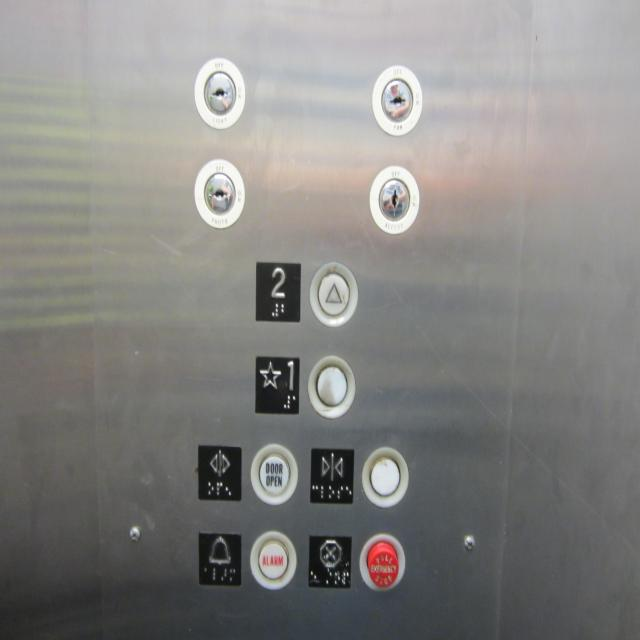2: (255, 260, 302, 323)
alarm: (196, 528, 243, 590)
close: (306, 442, 358, 508)
empty: (306, 353, 358, 420), (362, 442, 410, 510)
keyhole: (369, 58, 425, 140), (190, 54, 248, 130), (190, 157, 248, 230), (367, 164, 423, 236)
open: (196, 442, 243, 504)
s1: (253, 354, 300, 416)
stop: (306, 532, 355, 592)
text_alarm bell: (246, 529, 298, 593)
text_door open: (248, 442, 300, 508)
text_emergency: (357, 532, 409, 592)
up: (306, 259, 362, 328)
